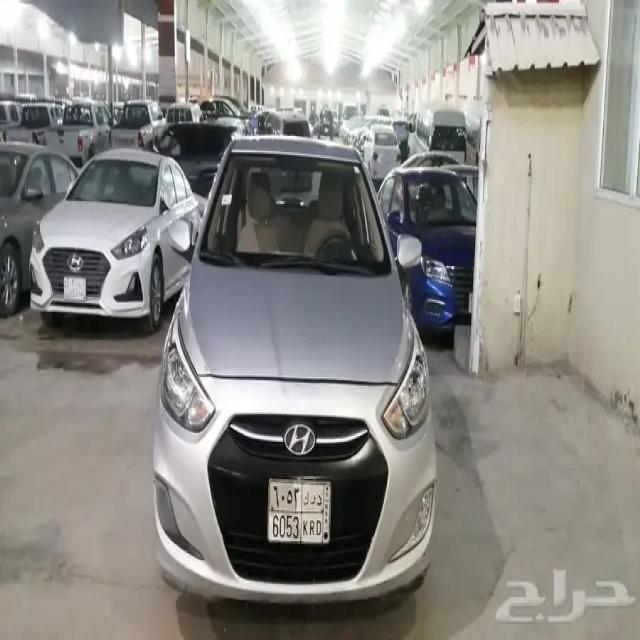license_plate: (268, 508, 324, 544)
